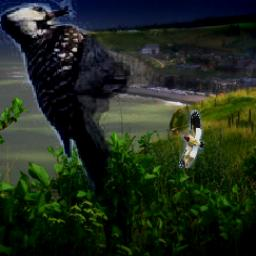Woodpecker: (0, 0, 134, 199), (179, 110, 204, 168)
